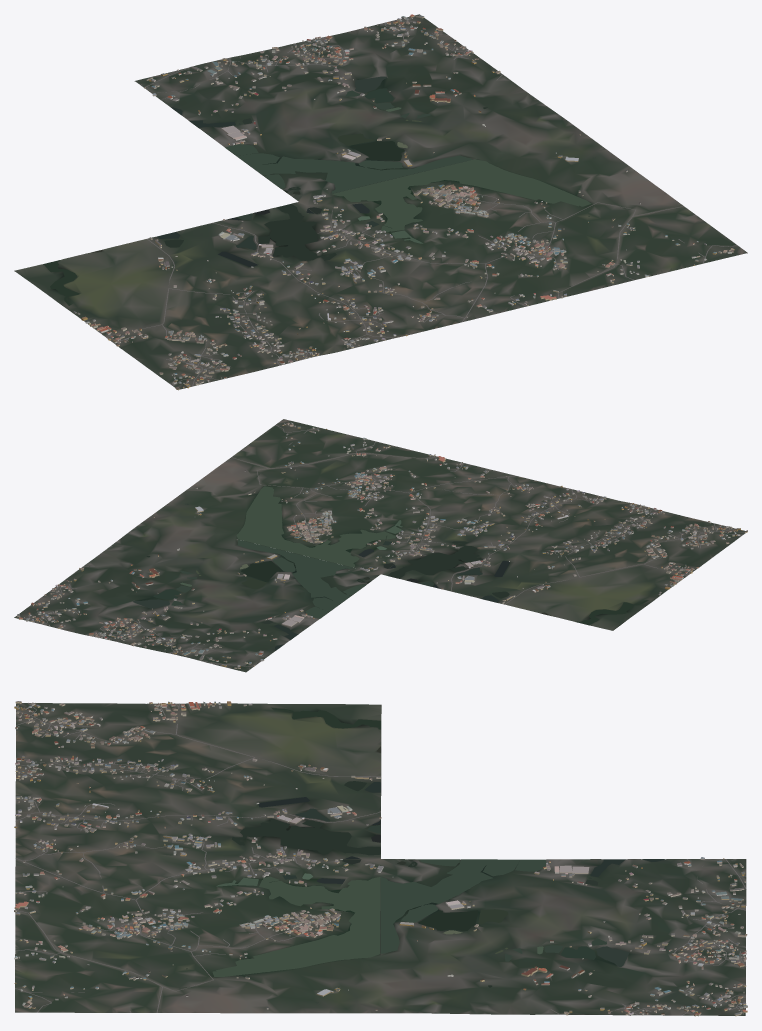
3 views of the same model, one above another, from view 1: azimuth 30°, elevation 25°; view 2: azimuth 150°, elevation 25°; view 3: azimuth 270°, elevation 25° (orthographic). The views are drawn at different scales.
Parts seen in each view (by area): view 1: ground, water, buildings, roads; view 2: ground, water, buildings, roads; view 3: ground, water, buildings, roads.
Boxes of the visible parts, x1,y1,x2,y2 form: ground: (14, 14, 747, 389); water: (43, 76, 595, 305); buildings: (73, 14, 734, 390); roads: (105, 16, 737, 386); ground: (14, 419, 745, 672); water: (133, 481, 647, 650); buildings: (17, 422, 747, 668); roads: (17, 425, 742, 669); ground: (15, 703, 746, 1015); water: (186, 708, 665, 1003); buildings: (14, 701, 747, 1016); roads: (15, 703, 746, 1015).
Size of the model in its own units: 2811 by 30.08 by 2816.
